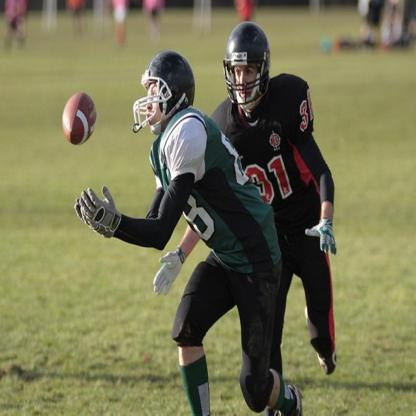face: (234, 53, 261, 113), (146, 77, 169, 134)
